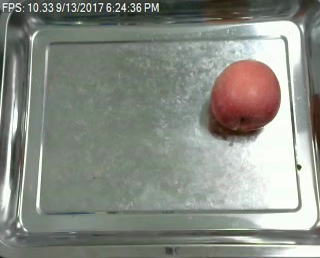Apple: (206, 59, 287, 134)
